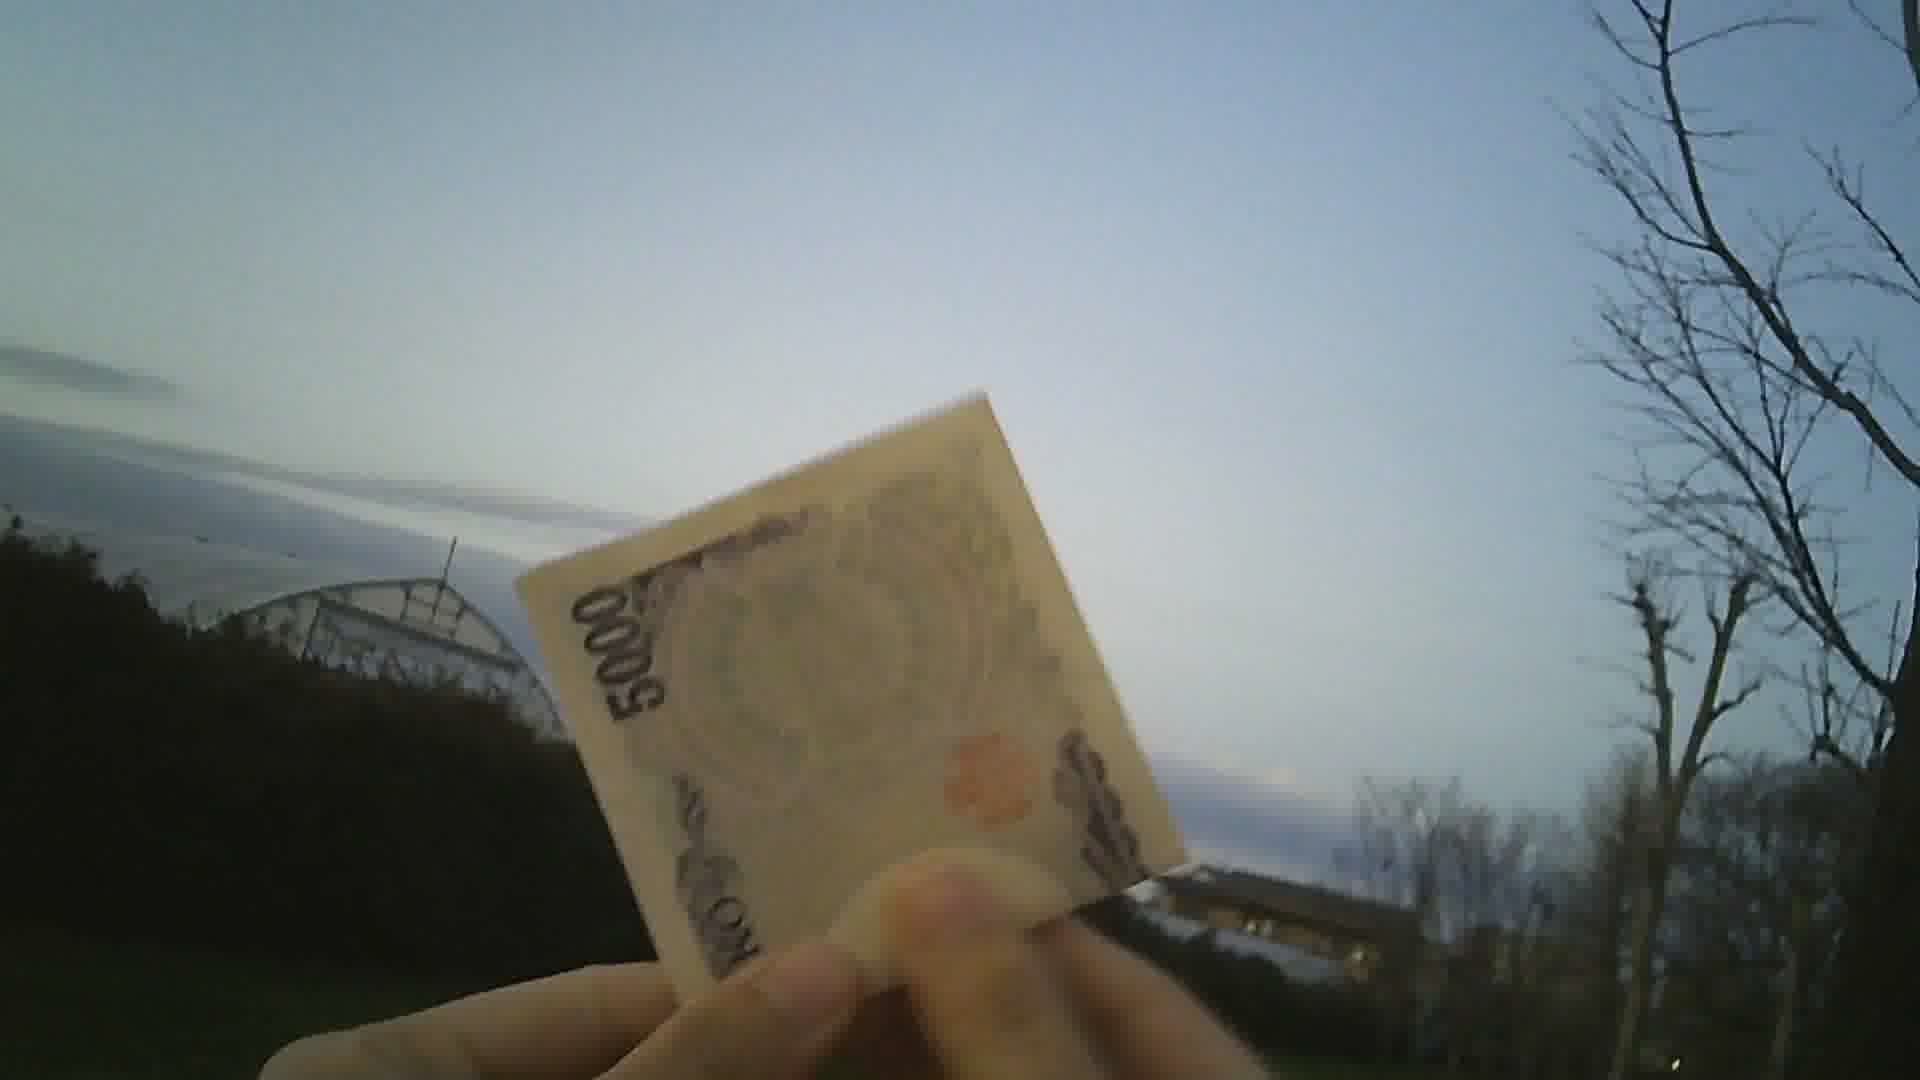5,000 Yen: (505, 386, 1211, 1015)
